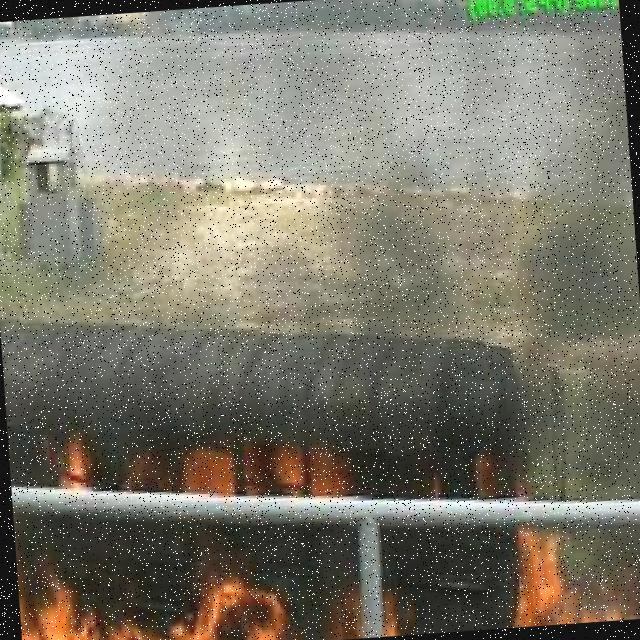Fire: (17, 561, 287, 640), (512, 519, 640, 627), (151, 438, 351, 505), (445, 464, 534, 508), (332, 591, 402, 640)
